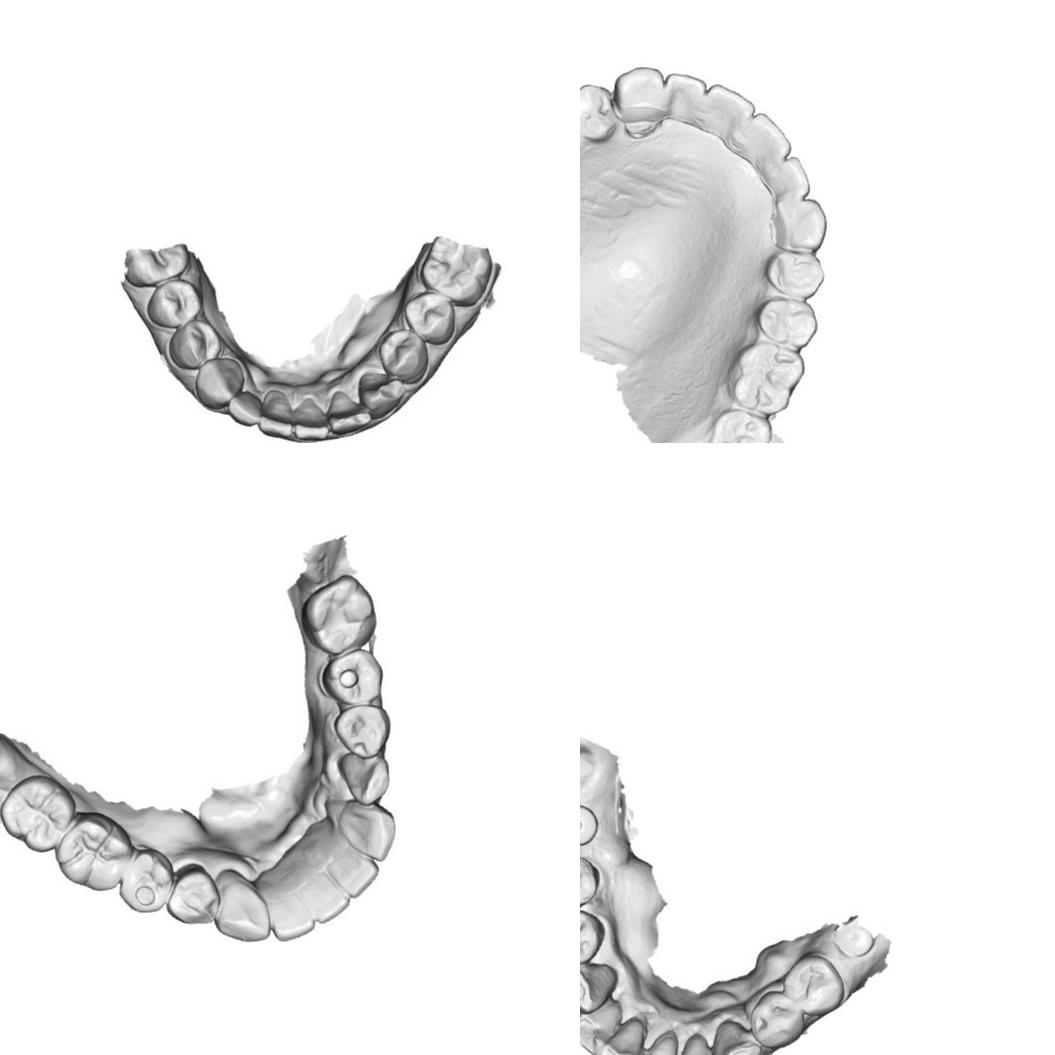canine: (216, 869, 272, 945), (772, 196, 831, 254), (613, 64, 667, 118), (336, 748, 390, 802), (195, 355, 244, 407), (360, 370, 408, 416), (580, 964, 617, 1015), (711, 1019, 761, 1055)
implant: (834, 924, 874, 958), (580, 804, 598, 846)
incisor: (323, 835, 384, 894), (260, 872, 312, 939), (333, 802, 399, 854), (664, 70, 715, 131), (740, 110, 795, 163), (296, 856, 344, 916), (705, 84, 754, 136), (580, 1001, 622, 1055), (327, 387, 369, 435), (766, 156, 815, 195), (292, 398, 332, 443), (598, 1018, 646, 1055), (258, 393, 295, 440), (228, 390, 264, 427), (633, 1030, 678, 1055), (672, 1032, 717, 1055)
molar: (54, 810, 134, 894), (298, 572, 378, 653), (0, 772, 75, 852), (731, 341, 807, 417), (418, 232, 491, 304), (704, 404, 776, 443)
premolar: (321, 647, 386, 710), (782, 955, 845, 1016), (760, 294, 820, 351), (749, 990, 806, 1050), (332, 705, 392, 757), (765, 247, 822, 301), (168, 861, 216, 924), (378, 328, 431, 382), (123, 852, 172, 909), (148, 275, 199, 329), (406, 291, 456, 343), (170, 320, 220, 369), (580, 81, 615, 141), (580, 910, 605, 966), (580, 854, 599, 911)
